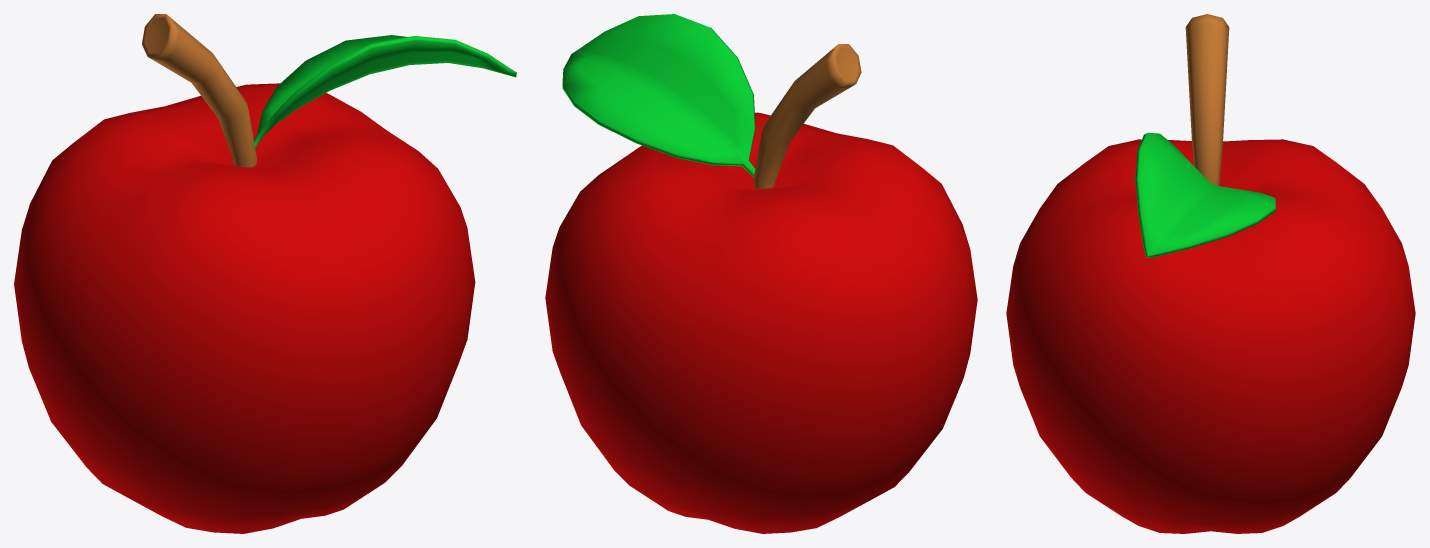
The model's file is Fruit-Apple.fbx.
3 renders of one model, left to right at view 1: azimuth 30°, elevation 25°; view 2: azimuth 150°, elevation 25°; view 3: azimuth 270°, elevation 25°, orthographic. The views are drawn at different scales.
Visible parts, largest first — view 1: Apple; view 2: Apple; view 3: Apple.
Part boxes in pixels (left/top/right/bottom): Apple: left=14, top=14, right=516, bottom=533; Apple: left=545, top=14, right=977, bottom=533; Apple: left=1006, top=14, right=1415, bottom=533.
Bounding box in the file's own units: 19 × 21 × 17.
